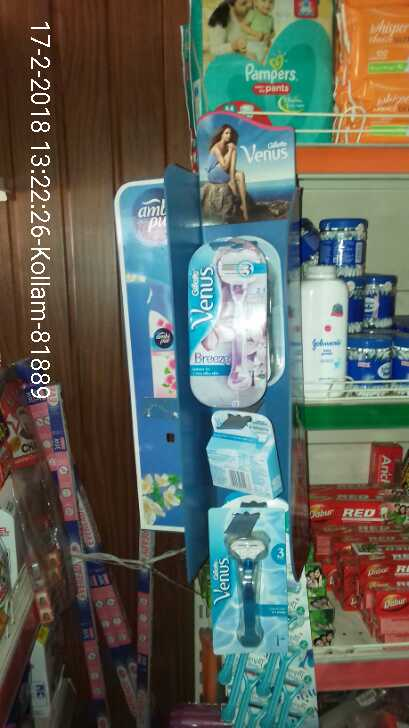venus: (202, 499, 299, 650), (192, 236, 267, 397)
